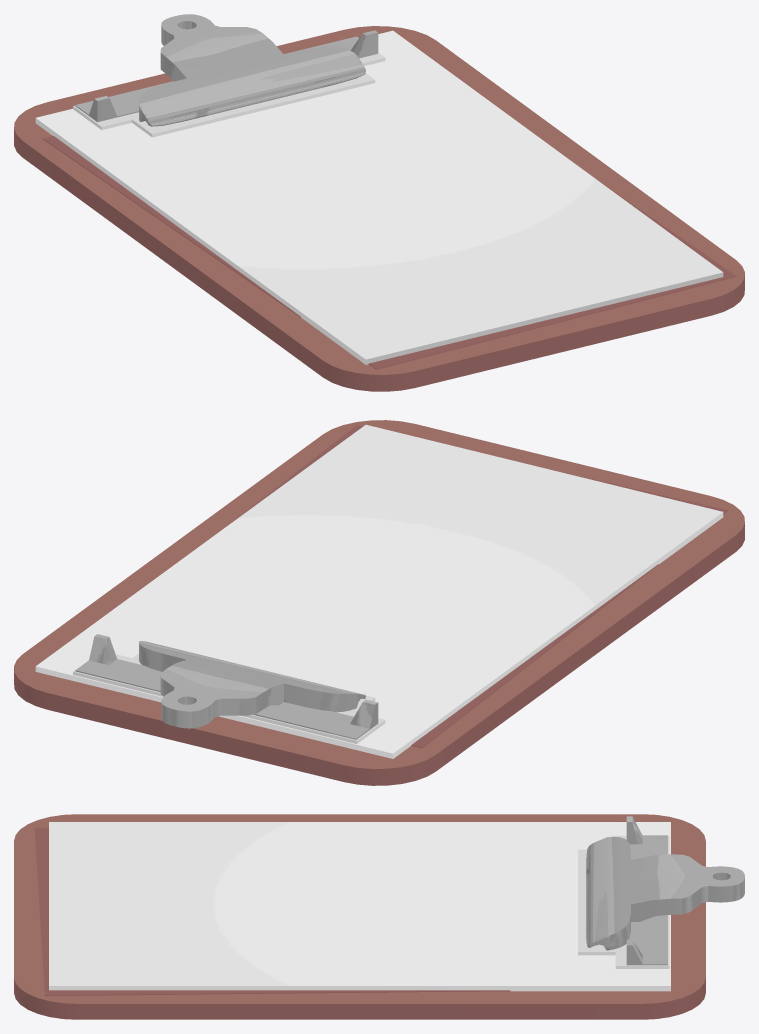
The model's file is Clipboard.glb.
3 views of the same model, one above another, from view 1: azimuth 30°, elevation 25°; view 2: azimuth 150°, elevation 25°; view 3: azimuth 270°, elevation 25° (orthographic). The views are drawn at different scales.
Parts seen in each view (by area): view 1: Clipboard; view 2: Clipboard; view 3: Clipboard.
Part boxes in pixels (box(x1,y1,x2,y2)): Clipboard: box(14, 14, 744, 391); Clipboard: box(14, 420, 744, 785); Clipboard: box(14, 814, 744, 1019).
Size of the model in its own units: 1.3 by 0.1545 by 2.11.
1 material, 1 textured.
